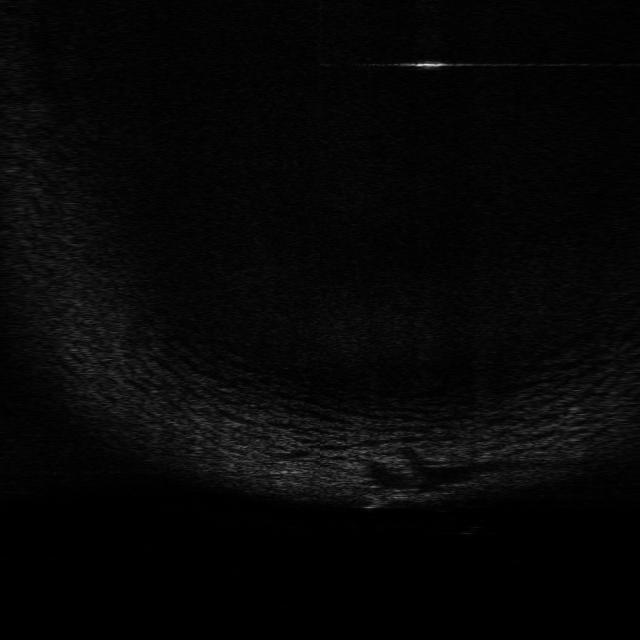plane: (362, 484, 461, 512)
